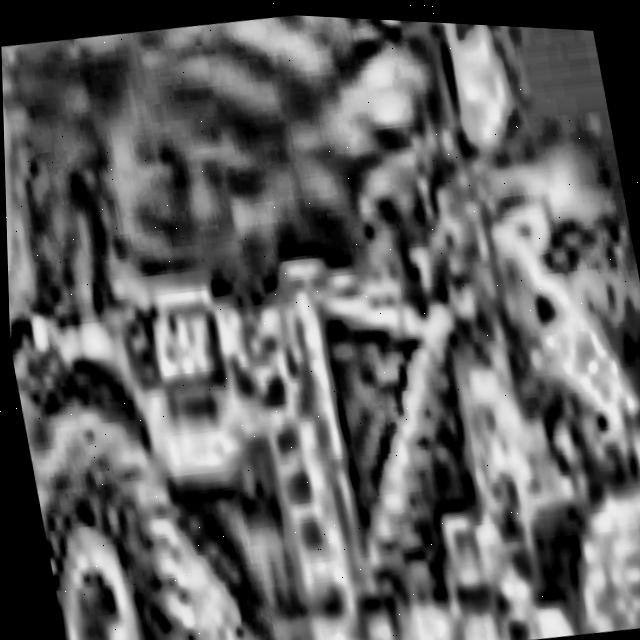dump_truck: (0, 0, 559, 640)
